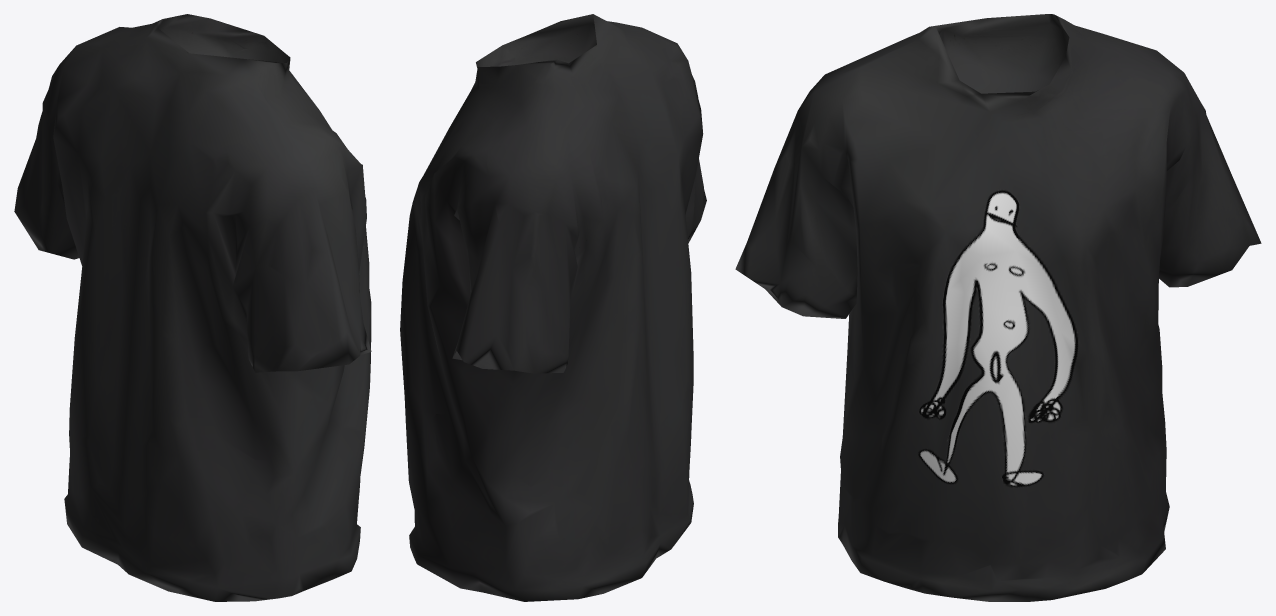
File: shirt-black-human.glb
The picture shows the model from 3 angles, left to right: view 1: azimuth 30°, elevation 25°; view 2: azimuth 150°, elevation 25°; view 3: azimuth 270°, elevation 25°; orthographic projection. The views are drawn at different scales.
Visible parts, largest first — view 1: vizcom_node_0; view 2: vizcom_node_0; view 3: vizcom_node_0.
Part boxes in pixels (x1=…): vizcom_node_0: x1=14, y1=14, x2=371, y2=601; vizcom_node_0: x1=400, y1=14, x2=706, y2=601; vizcom_node_0: x1=735, y1=14, x2=1261, y2=601.
Size of the model in its own units: 0.4858 by 1 by 0.9224.
Materials: 1 (1 with a texture image).
